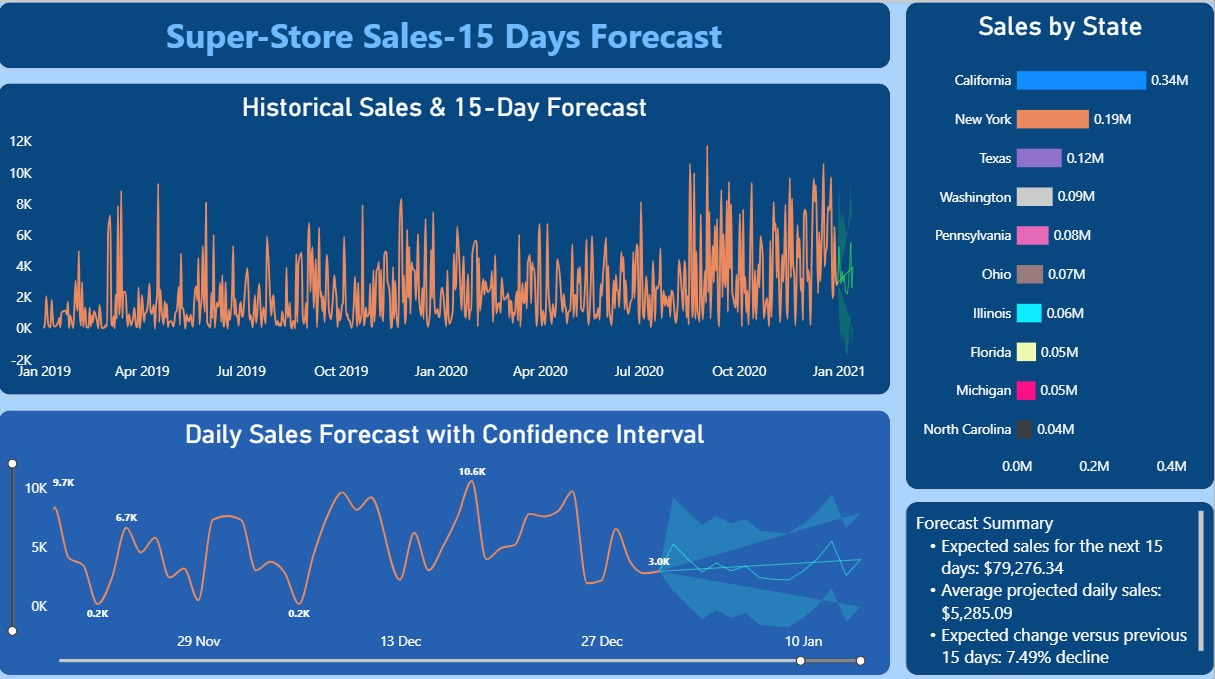

Layout of this report page (visuals, bound fields, positions):
{"tool":"powerbi","page":{"name":"Sales Forecasting ","canvas":[1920,1080],"ordinal":1},"visuals":[{"type":"lineChart","title":"Historical Sales & 15-Day Forecast","fields":{"Category":["SuperStore_Sales_Dataset.Order Date"],"Y":["Sum(SuperStore_Sales_Dataset.Sales)"]},"box":[0,127.9,1409.2,492.6],"z":0},{"type":"lineChart","title":"Daily Sales Forecast with Confidence Interval","fields":{"Category":["SuperStore_Sales_Dataset.Order Date"],"Y":["Sum(SuperStore_Sales_Dataset.Sales)"]},"box":[0,644.2,1409.2,419.2],"z":1000},{"type":"textbox","box":[0,0,1409,105.5],"z":2000},{"type":"clusteredBarChart","title":"Sales by State","fields":{"Category":["SuperStore_Sales_Dataset.State"],"Y":["Sum(SuperStore_Sales_Dataset.Sales)"]},"box":[1432.9,0,487.9,769.7],"z":3000},{"type":"textbox","box":[1432.9,788.7,487.9,274.7],"z":3001}]}

Visuals, with their boxes in screenshot pixels (x1, y1, x2, y2), scaled from the page's 1920x1080 canvas onto the 1215x679 screenshot:
"Historical Sales & 15-Day Forecast" lineChart: {"left": 0, "top": 80, "right": 892, "bottom": 390}
"Daily Sales Forecast with Confidence Interval" lineChart: {"left": 0, "top": 405, "right": 892, "bottom": 669}
textbox: {"left": 0, "top": 0, "right": 892, "bottom": 66}
"Sales by State" clusteredBarChart: {"left": 907, "top": 0, "right": 1214, "bottom": 484}
textbox: {"left": 907, "top": 496, "right": 1214, "bottom": 669}
